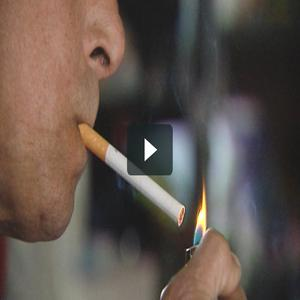cigarette: (77, 122, 186, 226)
